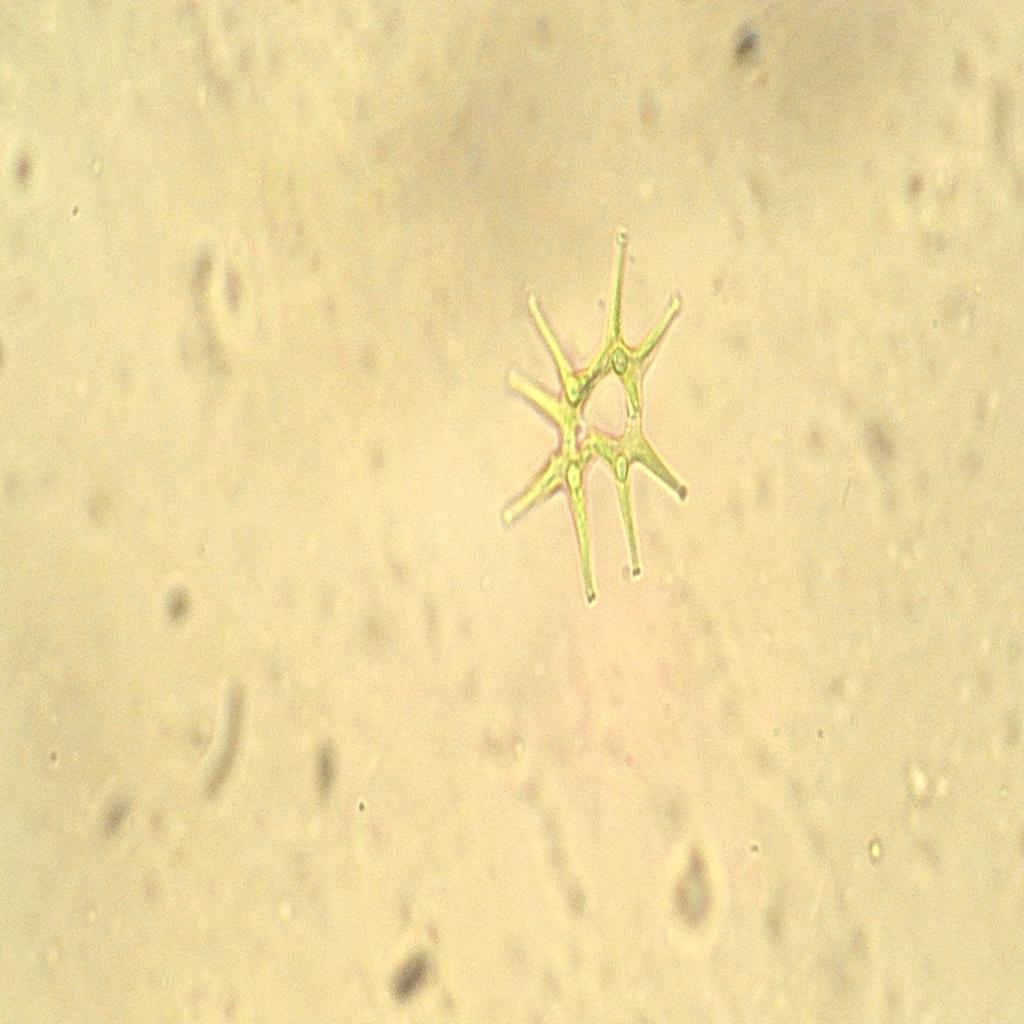Pediastrum_CF: (490, 196, 717, 625)
